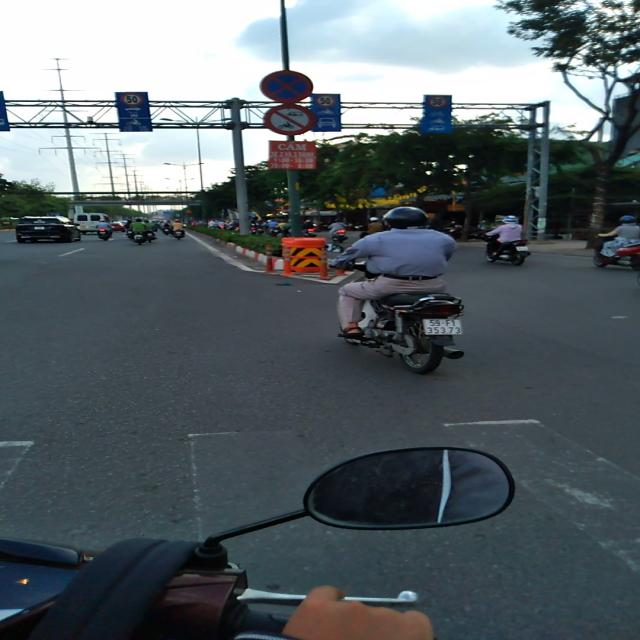Cam con lai: (263, 105, 316, 135)
Cam dung va do: (258, 70, 314, 103)
Toc do toi da: (121, 93, 143, 106), (315, 94, 335, 108), (428, 96, 448, 108)
